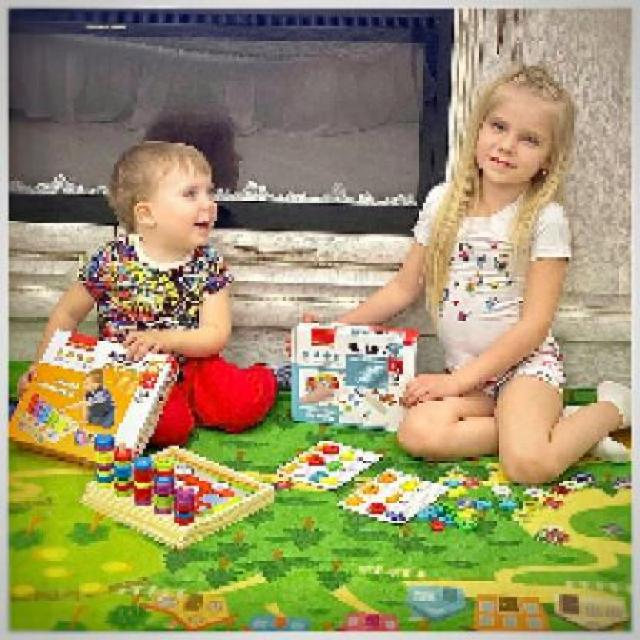child: (307, 63, 630, 483), (16, 140, 293, 446)
